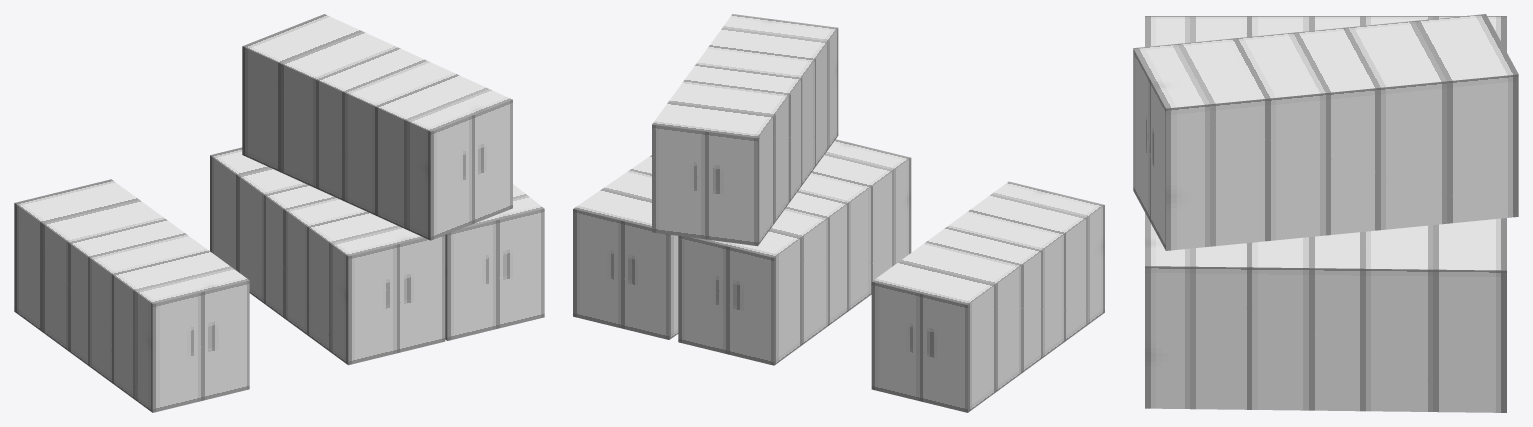
Rendered from containers.fbx.
3 views of the same model, side by side, from view 1: azimuth 30°, elevation 25°; view 2: azimuth 150°, elevation 25°; view 3: azimuth 270°, elevation 25° (orthographic). The views are drawn at different scales.
Visible parts, largest first — view 1: Containers Group, Container; view 2: Containers Group, Container; view 3: Containers Group, Container.
Part boxes in pixels (left/top/right/bottom): Containers Group: left=210, top=14, right=544, bottom=365; Container: left=14, top=179, right=249, bottom=412; Containers Group: left=573, top=14, right=911, bottom=365; Container: left=871, top=181, right=1104, bottom=412; Containers Group: left=1133, top=14, right=1518, bottom=412; Container: left=1145, top=16, right=1506, bottom=51.
Bounding box in the file's own units: 663 × 346 × 425.
1 material, 1 textured.
